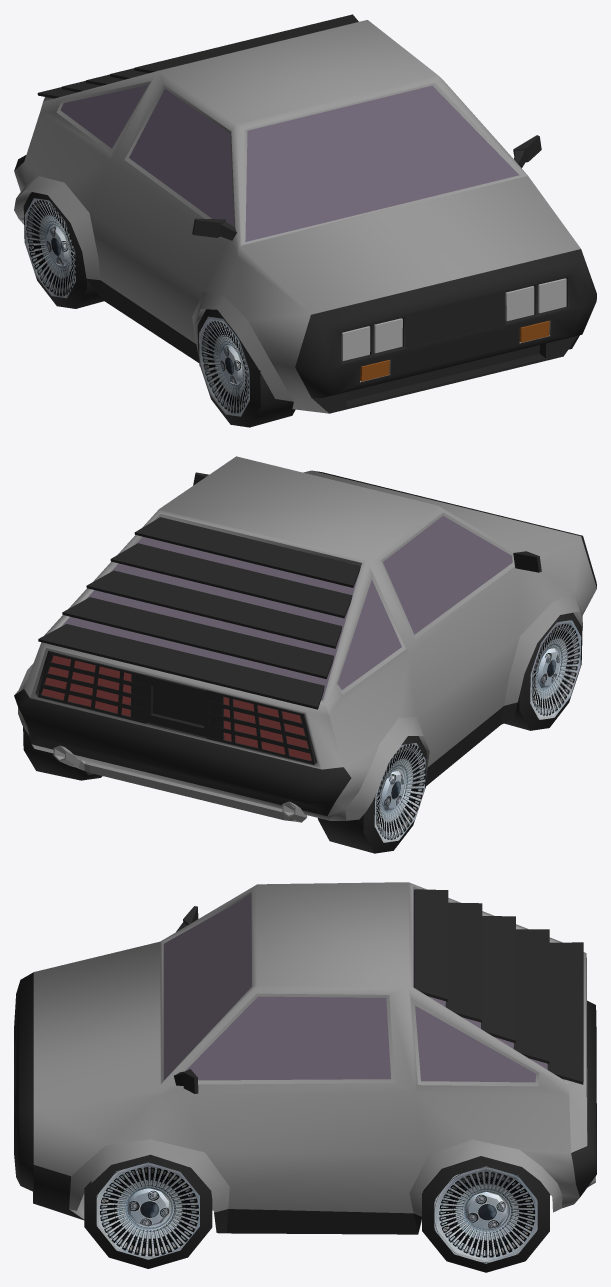
Rendered from obj_Cars_Delorean.fbx.
The picture shows the model from 3 angles, top to bottom: view 1: azimuth 30°, elevation 25°; view 2: azimuth 150°, elevation 25°; view 3: azimuth 270°, elevation 25°; orthographic projection. The views are drawn at different scales.
Visible parts, largest first — view 1: obj_car_Delorean, obj_wheel_FR, obj_wheel_RR; view 2: obj_car_Delorean, obj_wheel_RR, obj_wheel_FR, obj_wheel_RL; view 3: obj_car_Delorean, obj_wheel_RL, obj_wheel_FL.
Boxes of the visible parts, x1,y1,x2,y2 form: obj_car_Delorean: [14, 14, 596, 413]; obj_wheel_FR: [197, 309, 295, 427]; obj_wheel_RR: [23, 192, 103, 308]; obj_car_Delorean: [14, 456, 596, 822]; obj_wheel_RR: [317, 736, 426, 853]; obj_wheel_FR: [504, 612, 582, 730]; obj_wheel_RL: [23, 726, 102, 780]; obj_car_Delorean: [14, 882, 596, 1234]; obj_wheel_RL: [422, 1156, 549, 1272]; obj_wheel_FL: [84, 1154, 212, 1268].
Bounding box in the file's own units: 2.06 × 1.34 × 2.79.
Materials: 7 (1 with a texture image).
